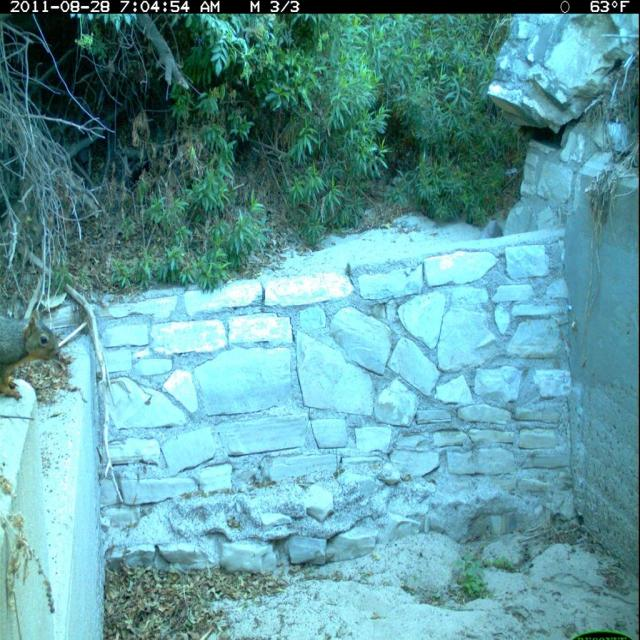squirrel: (2, 300, 74, 409)
